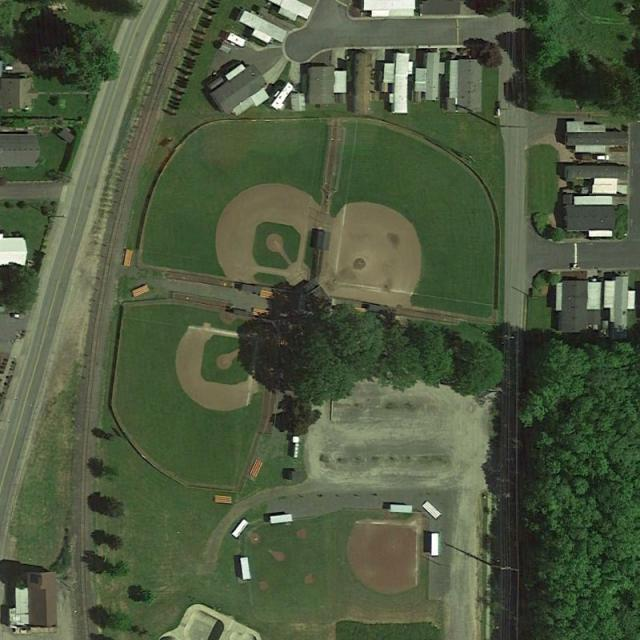vehicle: (9, 312, 26, 320), (597, 154, 609, 160)
